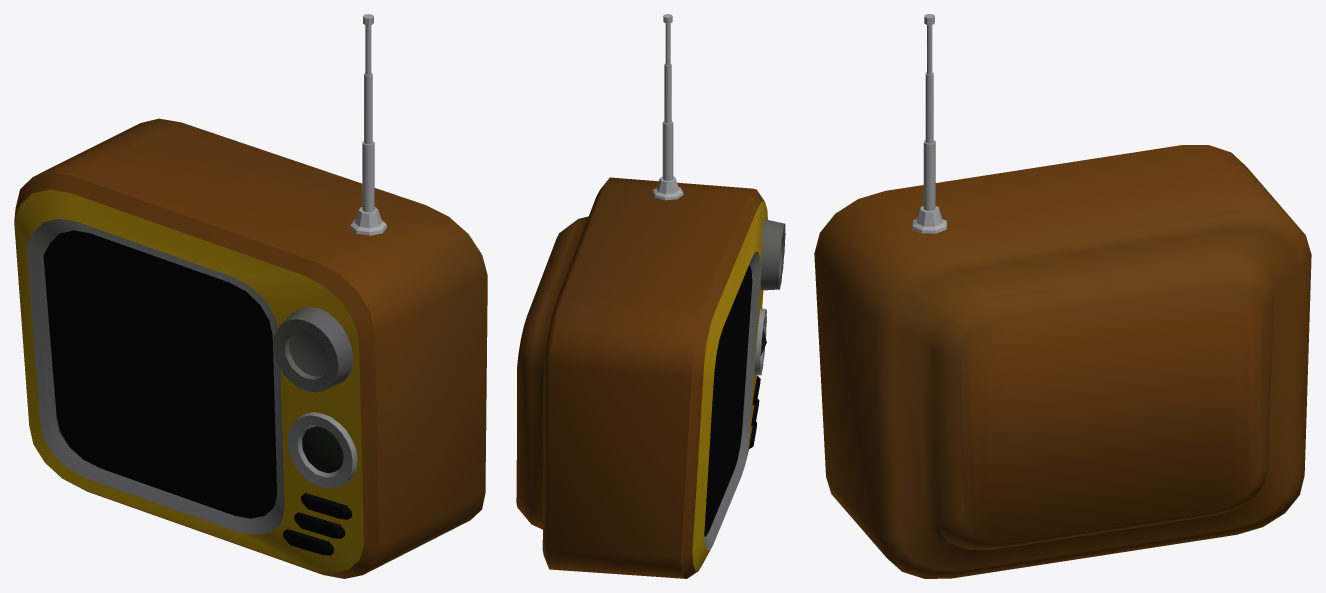
3 renders of one model, left to right at view 1: azimuth 30°, elevation 25°; view 2: azimuth 150°, elevation 25°; view 3: azimuth 270°, elevation 25°, orthographic. The views are drawn at different scales.
Visible parts, largest first — view 1: TV; view 2: TV; view 3: TV.
Part boxes in pixels (<box>): TV: <box>14,14,487,578</box>; TV: <box>516,14,785,578</box>; TV: <box>814,14,1311,578</box>.
Size of the model in its own units: 67.13 by 110 by 93.71.
